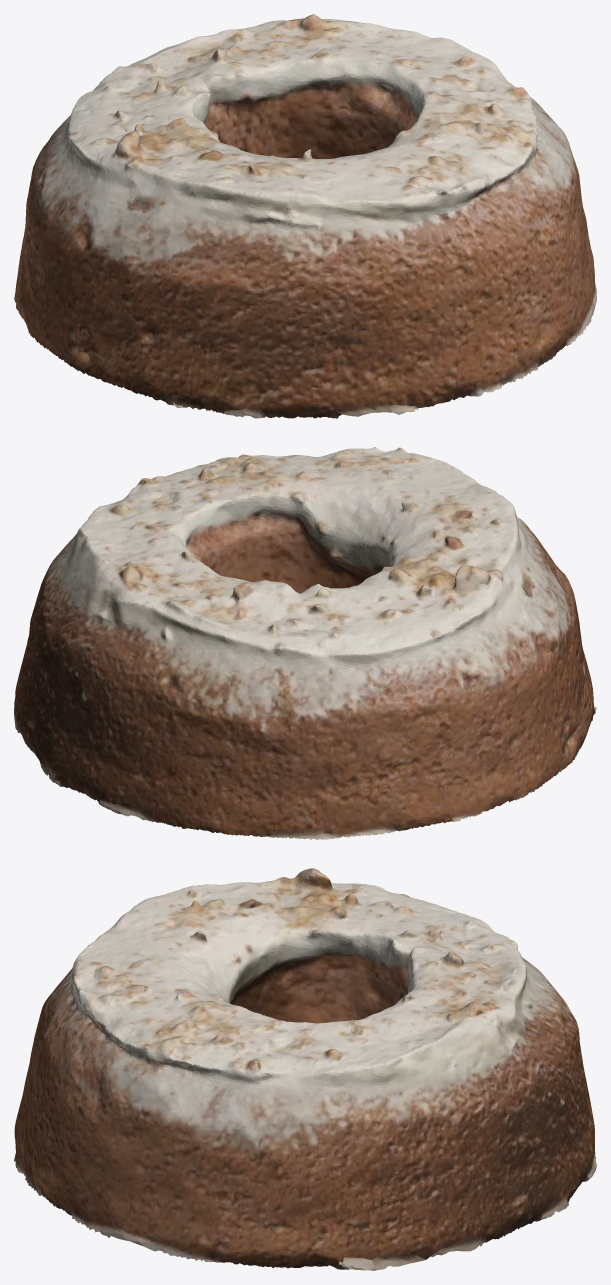
The model's file is torta-fotogrametria-demo.glb.
3 renders of one model, top to bottom at view 1: azimuth 30°, elevation 25°; view 2: azimuth 150°, elevation 25°; view 3: azimuth 270°, elevation 25°, orthographic.
Visible parts, largest first — view 1: plato; view 2: plato; view 3: plato.
Boxes of the visible parts, left/top/right/bottom form: plato: left=14, top=14, right=596, bottom=418; plato: left=14, top=447, right=596, bottom=839; plato: left=14, top=868, right=596, bottom=1270.
Bounding box in the file's own units: 0.2239 × 0.0841 × 0.225.
Materials: 1 (1 with a texture image).
